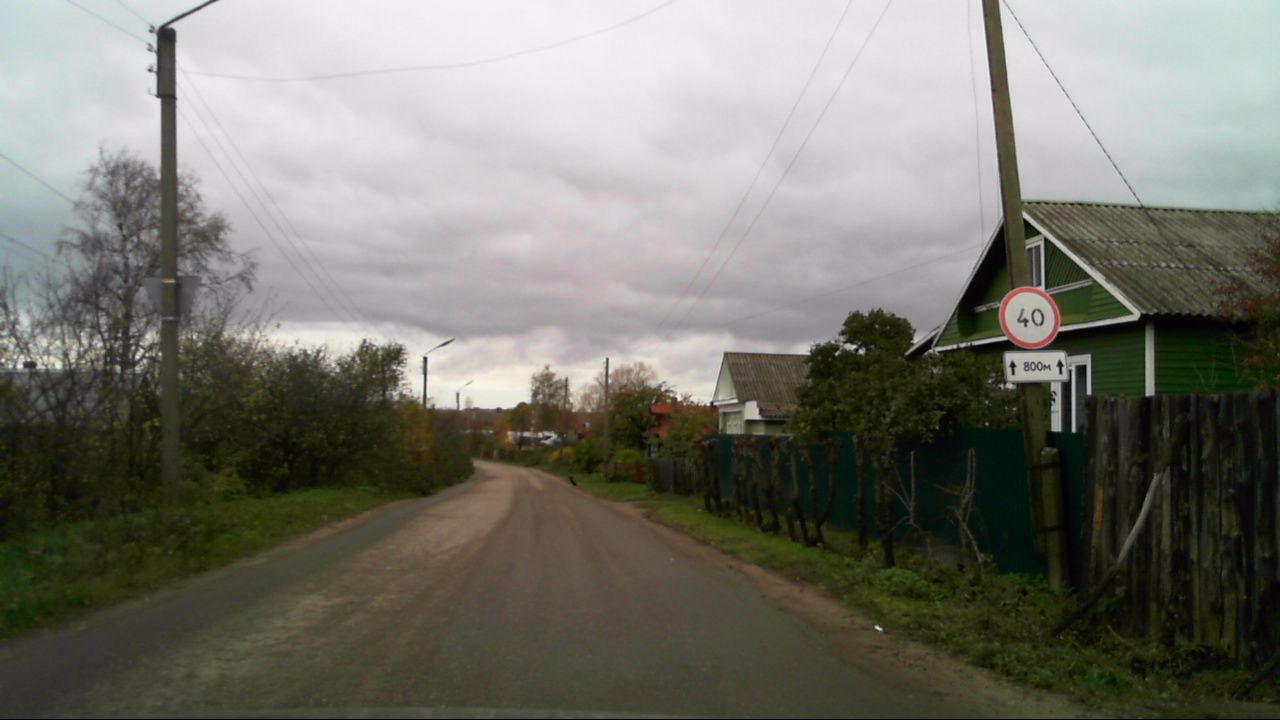speed_warning_40: (997, 285, 1061, 349)
